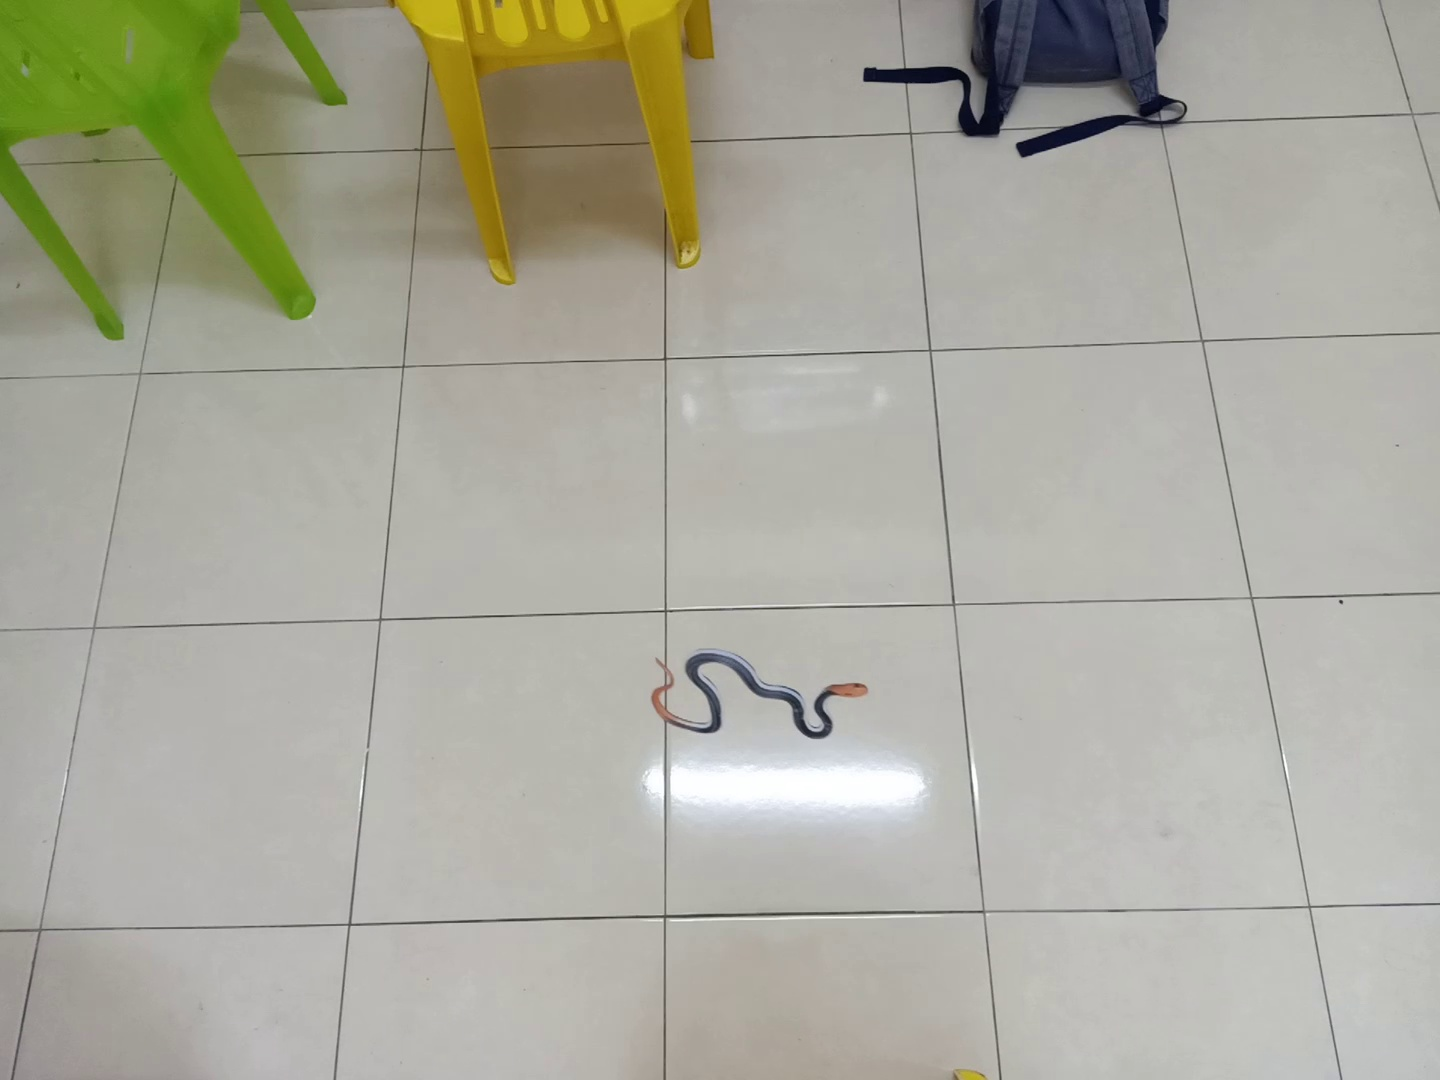snake: (645, 638, 882, 746)
